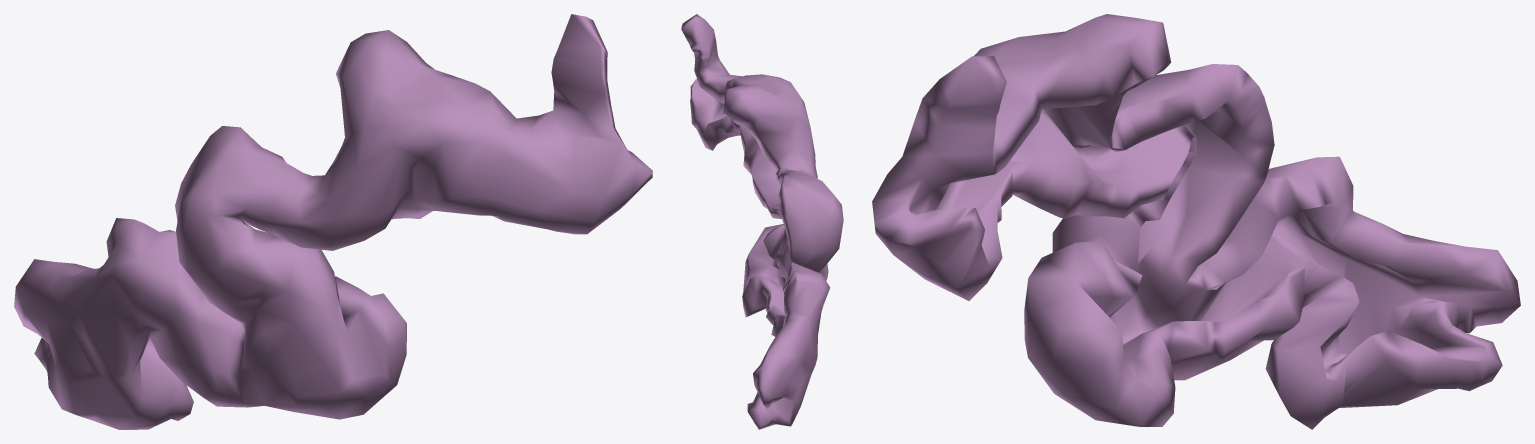
The picture shows the model from 3 angles, left to right: view 1: azimuth 30°, elevation 25°; view 2: azimuth 150°, elevation 25°; view 3: azimuth 270°, elevation 25°; orthographic projection. The views are drawn at different scales.
Parts seen in each view (by area): view 1: 右侧中央前回; view 2: 右侧中央前回; view 3: 右侧中央前回.
Boxes of the visible parts, x1=… form: 右侧中央前回: x1=14, y1=14, x2=652, y2=429; 右侧中央前回: x1=681, y1=14, x2=843, y2=429; 右侧中央前回: x1=872, y1=14, x2=1520, y2=429.
Size of the model in its own units: 0.0716 by 0.0819 by 0.0903.
